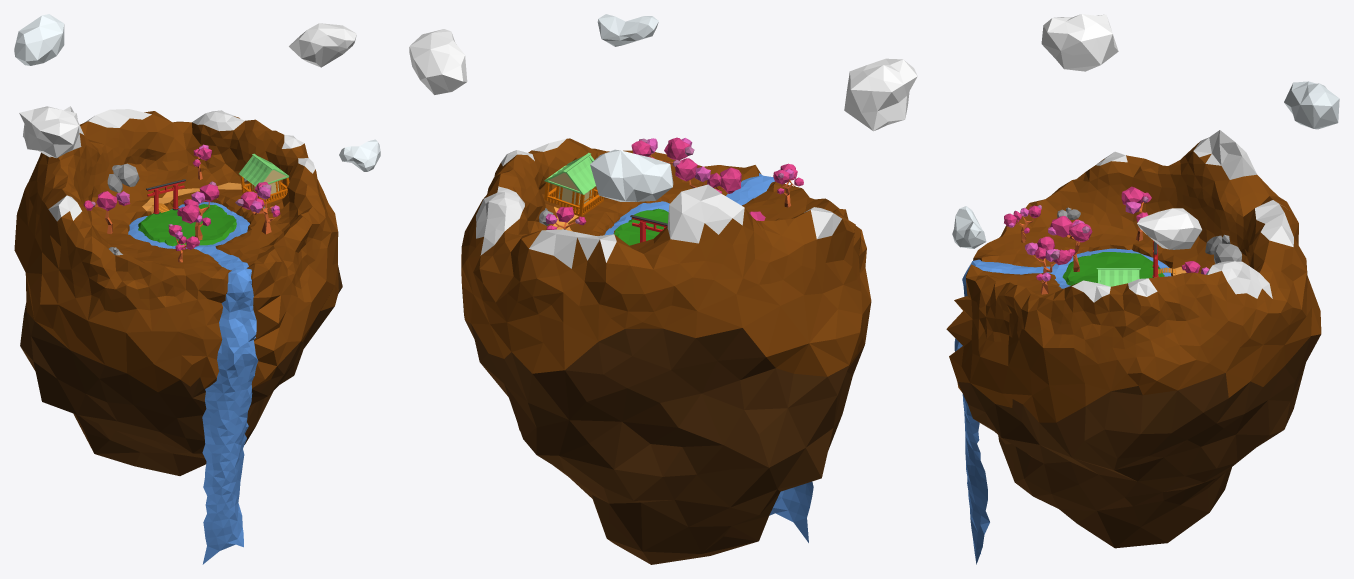
Rendered from island.glb.
3 views of the same model, side by side, from view 1: azimuth 30°, elevation 25°; view 2: azimuth 150°, elevation 25°; view 3: azimuth 270°, elevation 25° (orthographic). The views are drawn at different scales.
Parts seen in each view (by area): view 1: Isla, Agua, Icosphere.001, Hojas, Icosphere, Icosphere.002, Casa, Hojas.001, Icosphere.003, Roca, Torii; view 2: Isla, Icosphere.001, Icosphere, Icosphere.002, Agua, Hojas, Icosphere.003, Hojas.001, Casa, Cube.001_maderaCasa_0; view 3: Isla, Agua, Icosphere.001, Hojas, Icosphere, Icosphere.002, Icosphere.003, Hojas.001, Roca, Casa.
Part boxes in pixels (x1,y1,x2,y2): Isla: (14,106,342,475); Agua: (128,202,258,564); Icosphere.001: (19,106,81,158); Hojas: (83,144,280,250); Icosphere: (14,14,64,65); Icosphere.002: (289,23,356,67); Casa: (239,153,288,186); Hojas.001: (177,181,219,226); Icosphere.003: (339,139,380,171); Roca: (107,163,139,192); Torii: (146,179,185,214); Isla: (461,138,871,564); Icosphere.001: (844,58,917,131); Icosphere: (590,149,673,201); Icosphere.002: (409,29,467,94); Agua: (604,173,813,542); Hojas: (545,137,803,229); Icosphere.003: (597,14,658,46); Hojas.001: (672,158,741,193); Casa: (544,152,595,194); Cube.001_maderaCasa_0: (544,182,603,216); Isla: (946,130,1321,548); Agua: (954,248,1171,564); Icosphere.001: (1041,14,1118,71); Hojas: (1004,186,1209,281); Icosphere: (1284,81,1339,129); Icosphere.002: (1137,208,1201,249); Icosphere.003: (952,206,986,248); Hojas.001: (1048,216,1092,256); Roca: (1205,234,1241,263); Casa: (1096,268,1140,286).
Bounding box in the file's own units: 1406 × 1665 × 1225.
